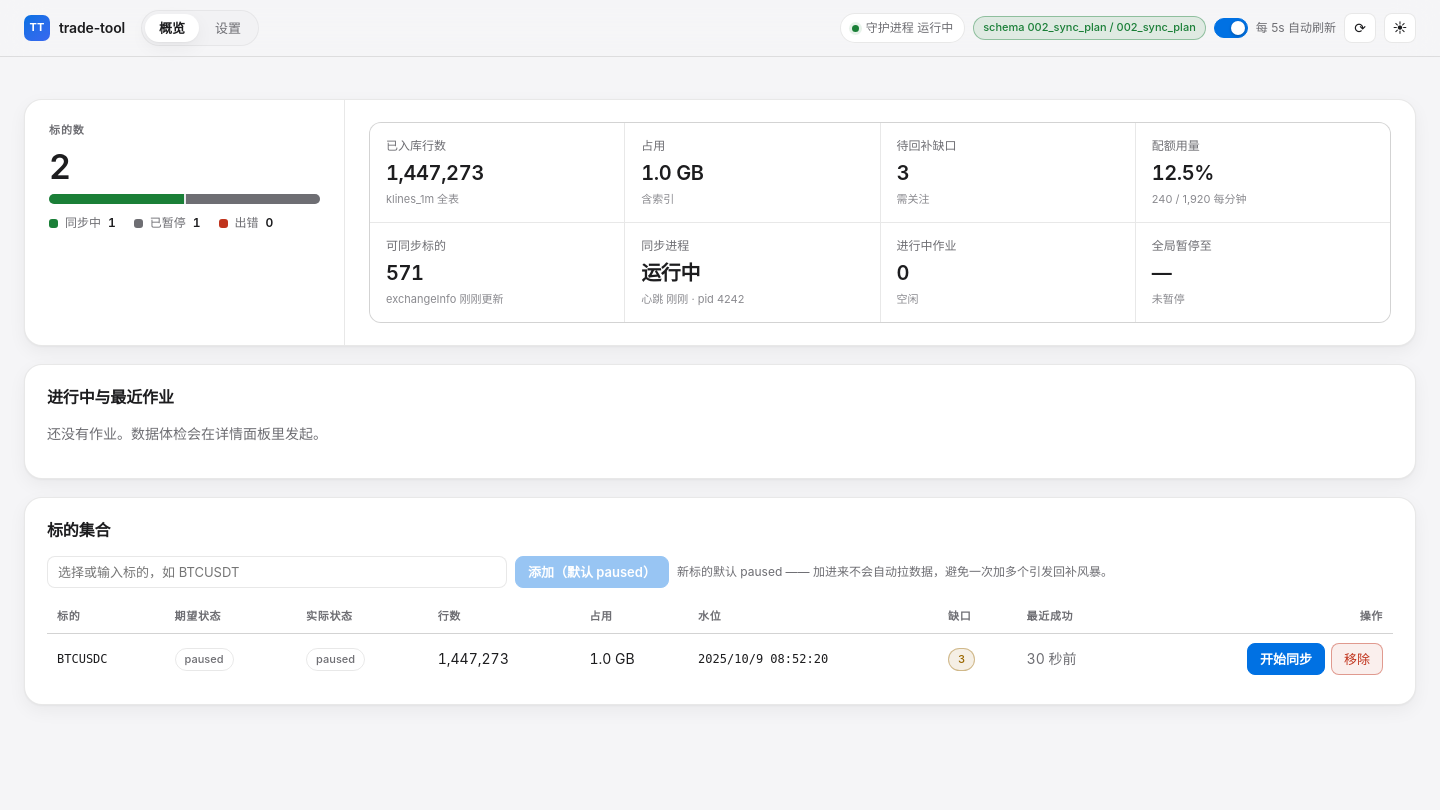
Test: 详情页 K 线 › 响应缺少 derived 字段时，详情页照常渲染（附加面板不得弄垮主内容）
What coordinates should you click on to do the following:
click the text "BTCUSDC"
I would click on:
 (106, 659)
Its box is [47,633,165,684].
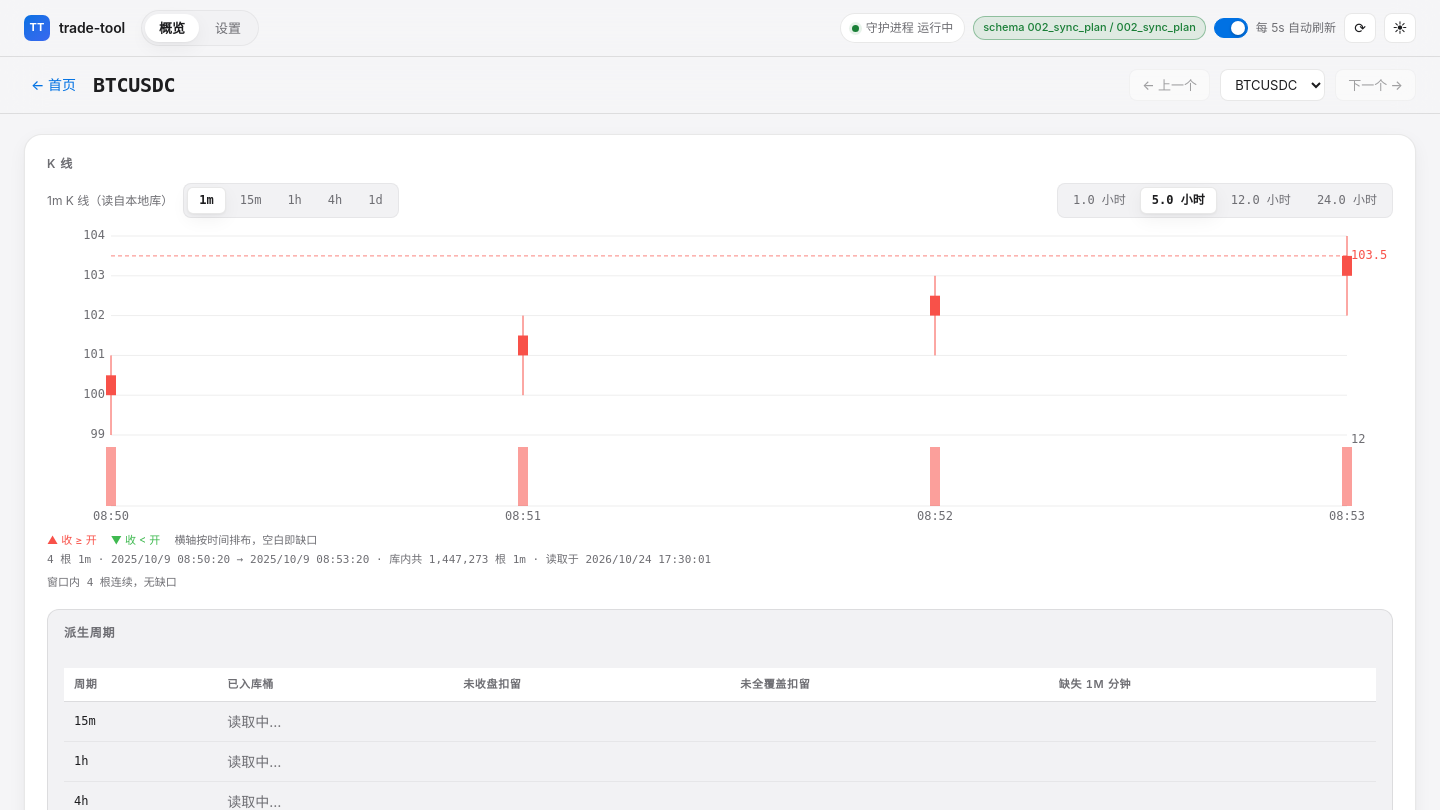
Result: the button titled "切换到 4h" is shown at [316,187,354,214]
Result: the text "1m K 线（读自本地库）" is shown at [47,192,173,210]
Result: the 1st text "读取中…" is shown at [217,702,1376,742]
